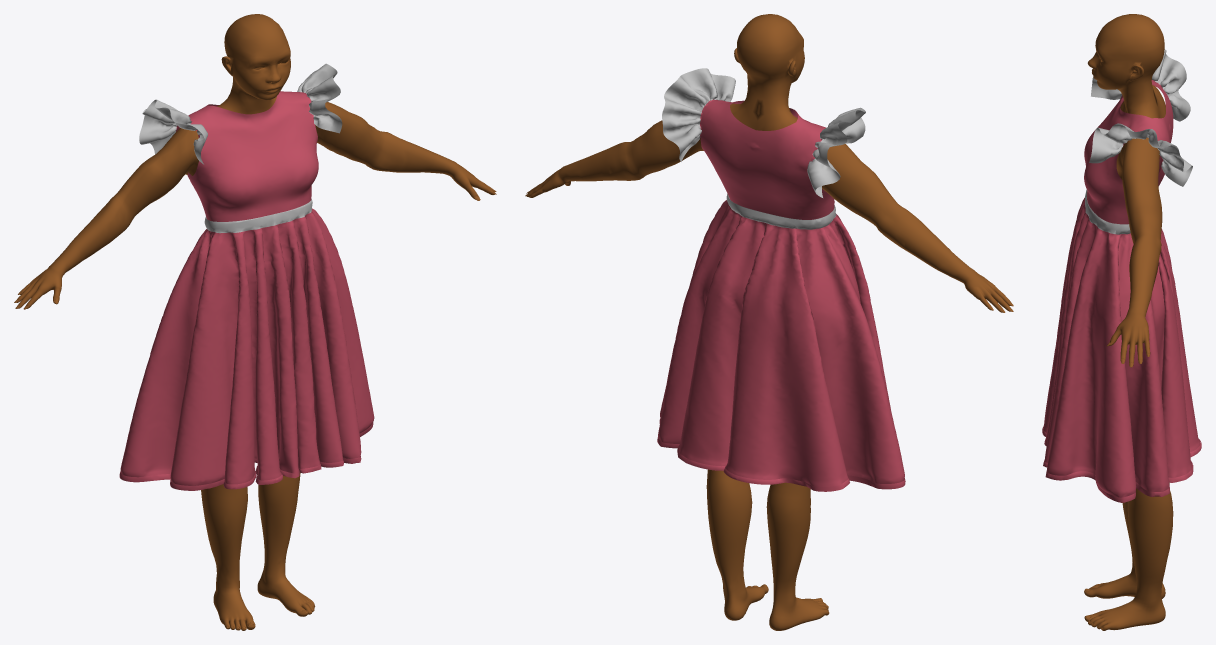
Rendered from dress4.glb.
3 views of the same model, side by side, from view 1: azimuth 30°, elevation 25°; view 2: azimuth 150°, elevation 25°; view 3: azimuth 270°, elevation 25° (orthographic).
Parts seen in each view (by area): view 1: PinkDrees#14 (OBJ), Body; view 2: PinkDrees#14 (OBJ), Body; view 3: PinkDrees#14 (OBJ), Body.
Boxes of the visible parts, left/top/right/bottom form: PinkDrees#14 (OBJ): left=119, top=63, right=374, bottom=490; Body: left=16, top=14, right=496, bottom=630; PinkDrees#14 (OBJ): left=657, top=68, right=905, bottom=491; Body: left=526, top=14, right=1010, bottom=630; PinkDrees#14 (OBJ): left=1042, top=49, right=1201, bottom=502; Body: left=1084, top=14, right=1173, bottom=630.
Bounding box in the file's own units: 1.58 × 1.85 × 0.451.
